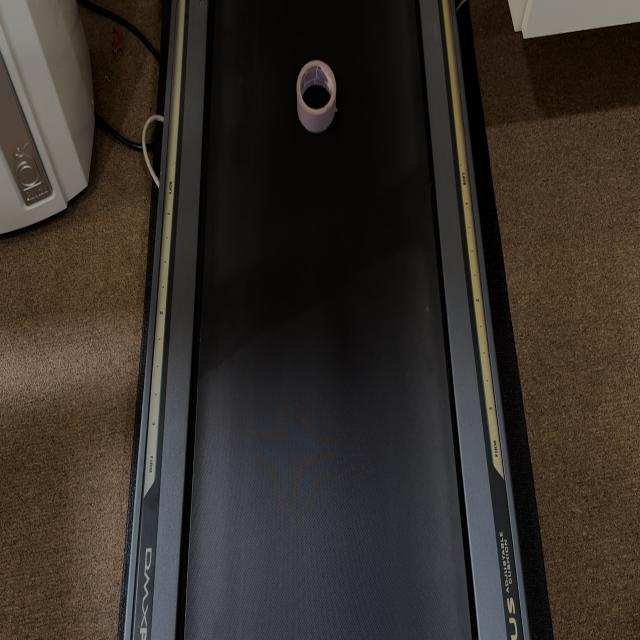Trash: (295, 59, 337, 132)
